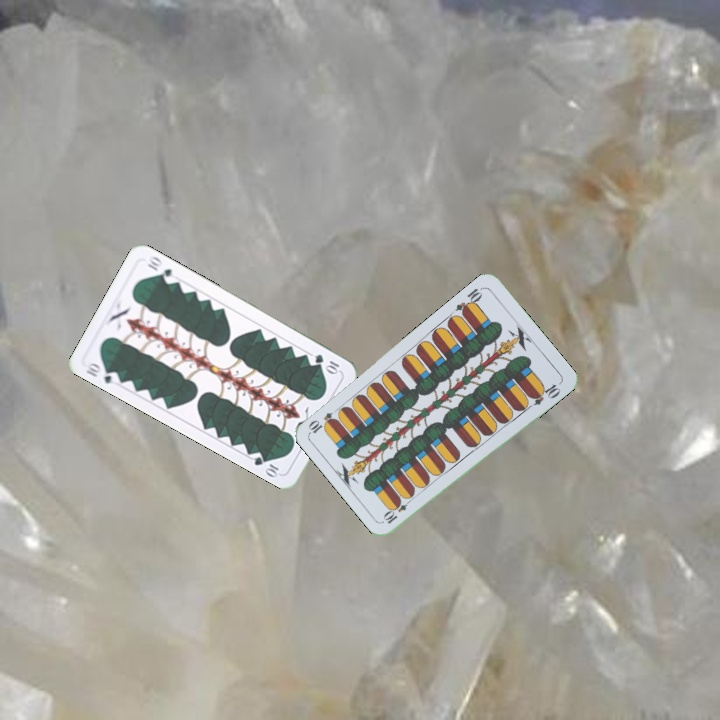E10: (451, 283, 486, 318), (380, 493, 415, 526)
G10: (82, 358, 122, 387), (311, 350, 343, 376)
